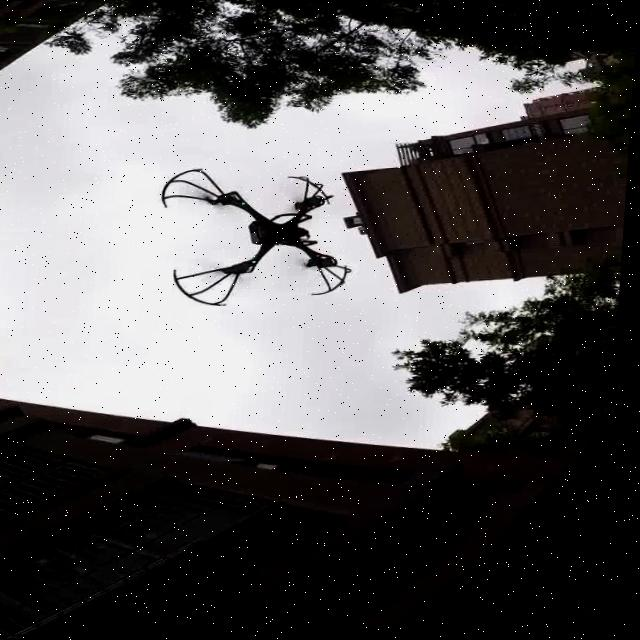drone: (149, 164, 383, 311)
